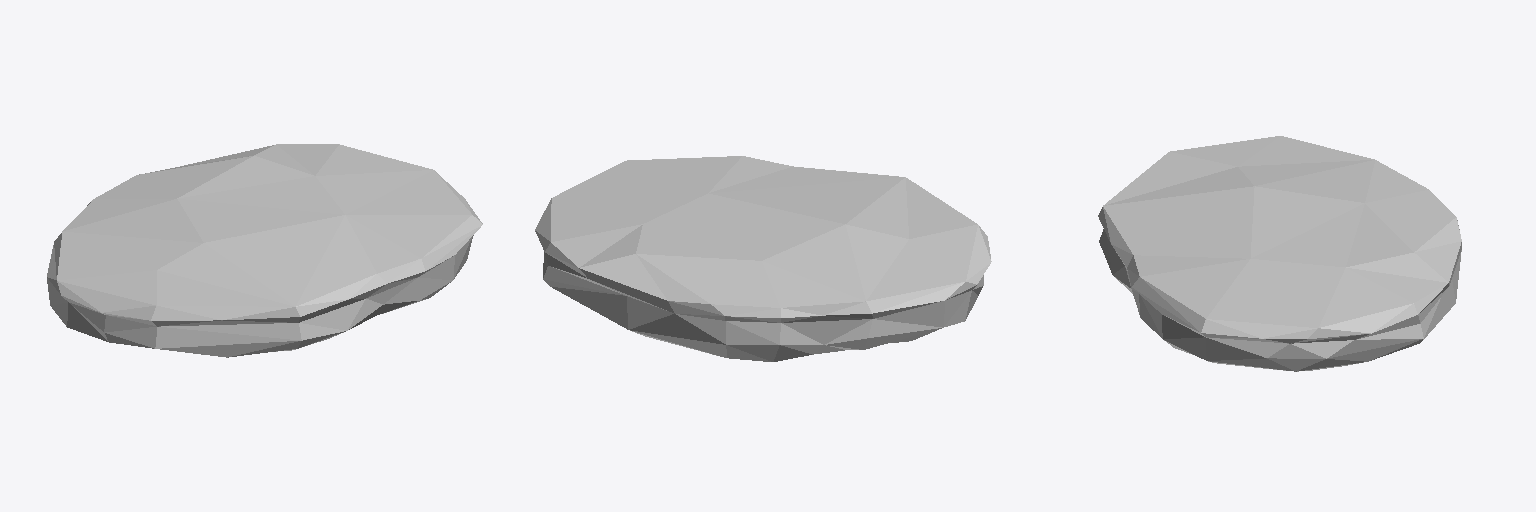
The model's file is Mesh_CavePack_Platform4_lod1.obj.
3 views of the same model, side by side, from view 1: azimuth 30°, elevation 25°; view 2: azimuth 150°, elevation 25°; view 3: azimuth 270°, elevation 25° (orthographic).
Visible parts, largest first — view 1: Cube_Cube.001; view 2: Cube_Cube.001; view 3: Cube_Cube.001.
Part boxes in pixels (left/top/right/bottom): Cube_Cube.001: left=47, top=144, right=482, bottom=357; Cube_Cube.001: left=535, top=156, right=991, bottom=361; Cube_Cube.001: left=1098, top=136, right=1461, bottom=371.
Size of the model in its own units: 11.64 by 2.1 by 9.07.